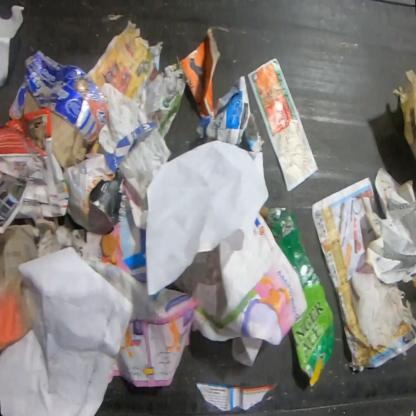cardboard: (258, 205, 336, 388), (8, 49, 109, 168), (177, 26, 222, 120)
soft_plastic: (350, 267, 415, 357)
